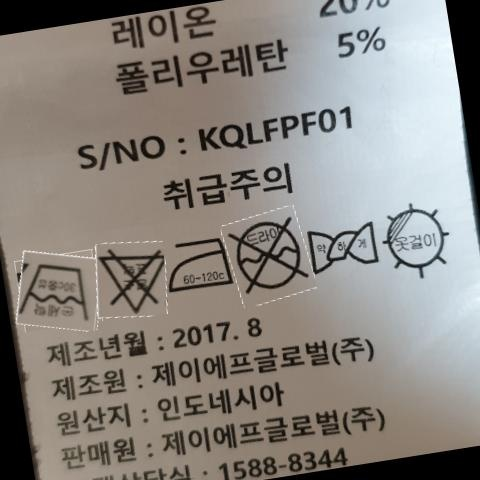DN_dry_clean: (236, 214, 301, 297)
hand_wash: (20, 251, 93, 330)
line_dry_in_shade: (384, 204, 452, 283)
non_chlorine_bleach: (100, 247, 167, 318)
tumble_dry_low: (168, 236, 237, 301)
wring: (308, 221, 382, 281)
